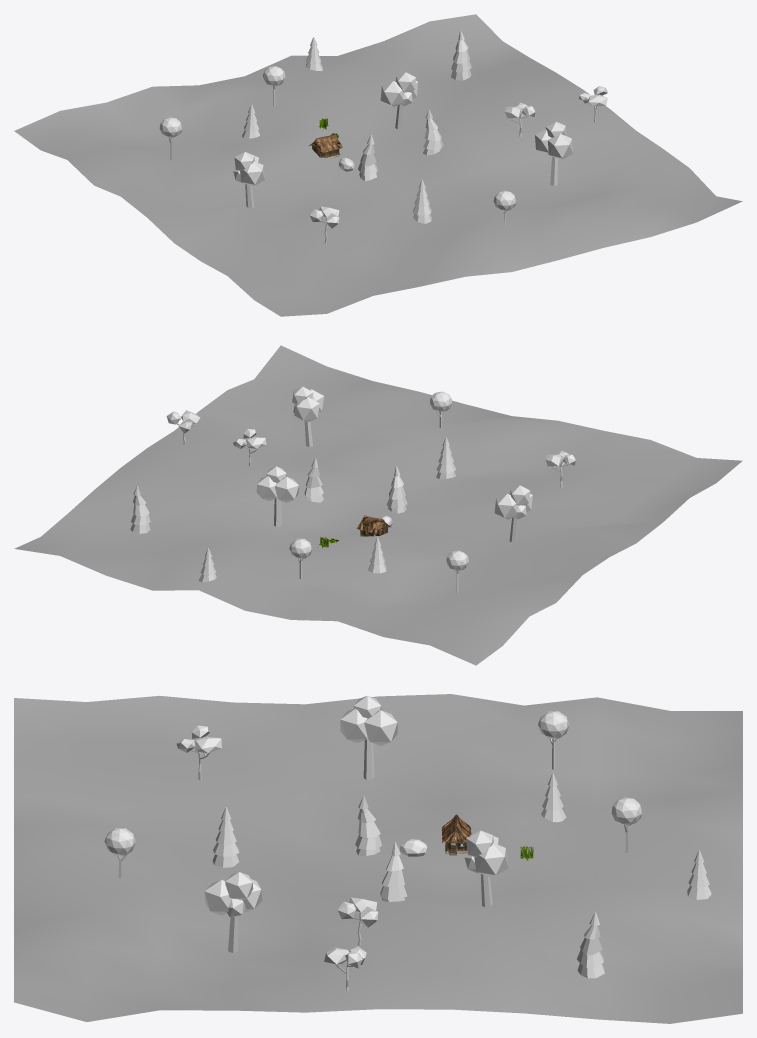
File: testground.fbx
3 renders of one model, top to bottom at view 1: azimuth 30°, elevation 25°; view 2: azimuth 150°, elevation 25°; view 3: azimuth 270°, elevation 25°, orthographic. The views are drawn at different scales.
Parts seen in each view (by area): view 1: pPlane1, tree 2#, tree 2", Cylinder, pine tree 1 var 1, Roof1; view 2: pPlane1, tree 2", tree 2#, Cylinder, pine tree 1 var 1; view 3: pPlane1, tree 2#, tree 2", Cylinder, pine tree 1 var 1, Cylinder.012, Roof1, tree 2, pine tree 1 .001.
Boxes of the visible parts, x1,y1,x2,y2 form: pPlane1: (14, 14, 742, 316); tree 2#: (412, 86, 607, 227); tree 2": (262, 30, 535, 137); Cylinder: (233, 152, 265, 208); pine tree 1 var 1: (358, 135, 377, 180); Roof1: (308, 134, 342, 158); pPlane1: (14, 345, 742, 665); tree 2": (130, 429, 312, 582); tree 2#: (166, 386, 455, 502); Cylinder: (494, 485, 532, 542); pine tree 1 var 1: (387, 466, 407, 513); pPlane1: (14, 694, 742, 1023); tree 2#: (104, 807, 407, 990); tree 2": (337, 797, 711, 978); Cylinder: (340, 695, 397, 779); pine tree 1 var 1: (355, 796, 381, 856); Cylinder.012: (176, 725, 221, 780); Roof1: (441, 814, 471, 855); tree 2: (538, 711, 569, 769); pine tree 1 .001: (541, 773, 566, 822).
Bounding box in the file's own units: 1629 × 216 × 1629.
10 materials, 3 textured.
